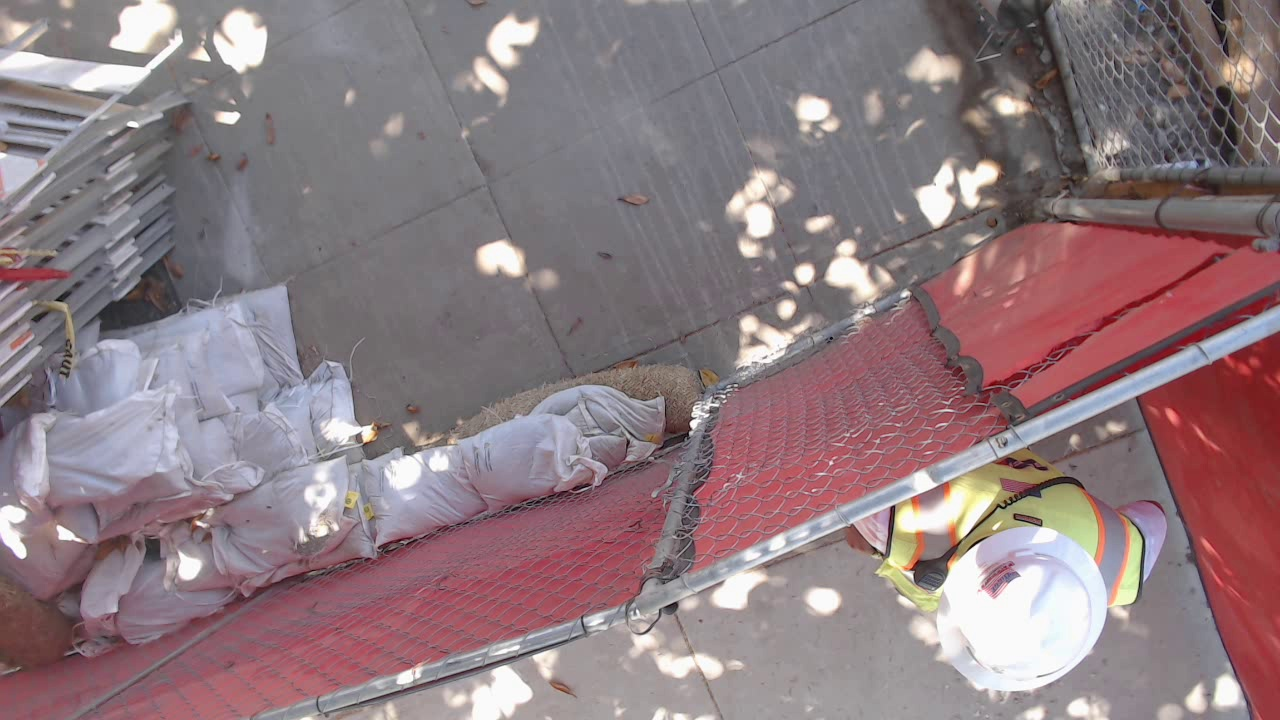hardhat: (249, 198, 413, 360)
person: (252, 59, 646, 502)
safetyvest: (310, 112, 519, 364)
